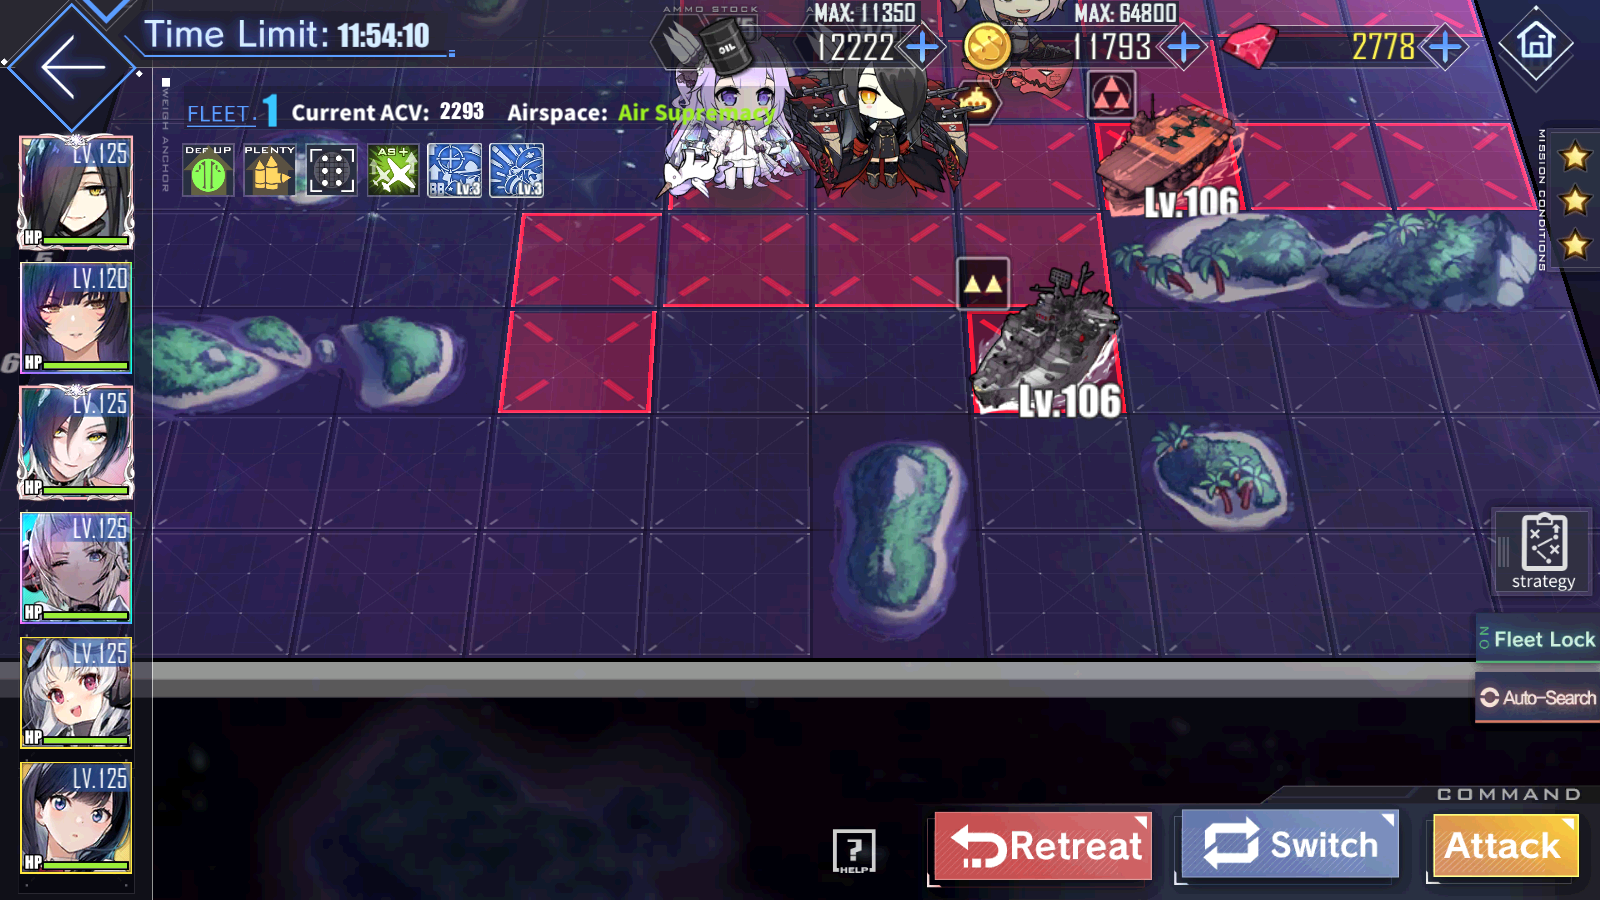ally: (791, 4, 963, 211), (658, 4, 811, 207), (944, 1, 1063, 95)
enemy: (957, 256, 1127, 416), (1087, 70, 1247, 216)
